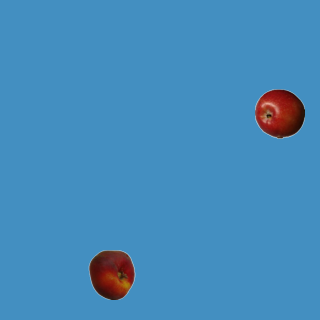Apple Braeburn: (254, 88, 304, 138)
Nectarine Flat: (86, 249, 136, 299)
